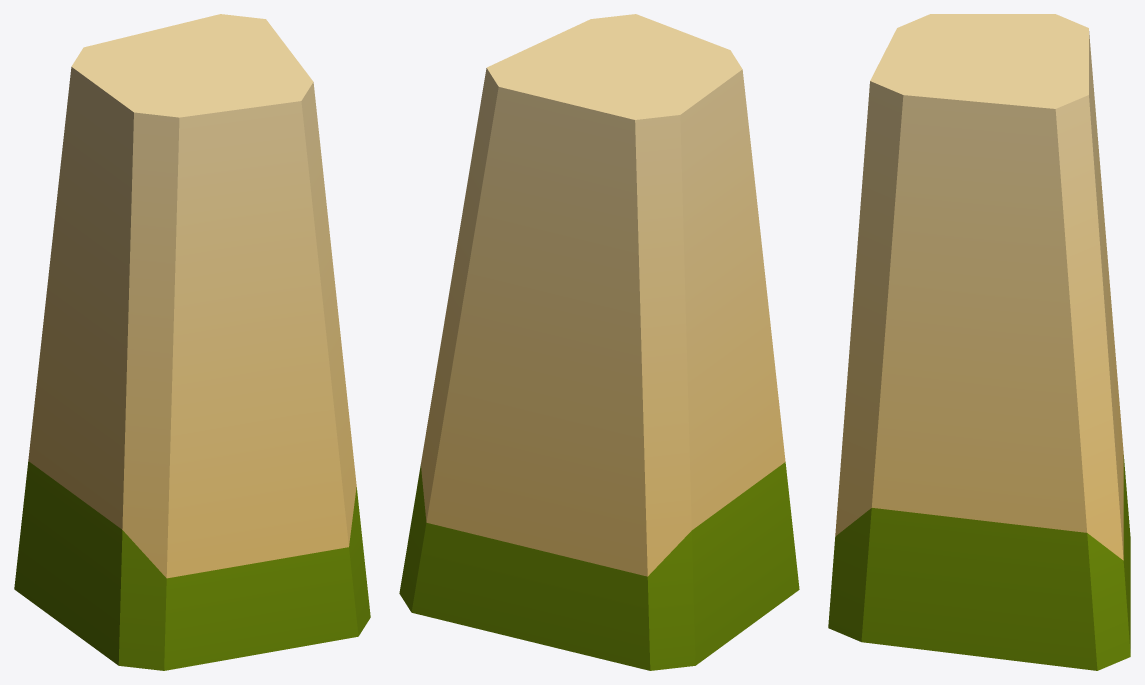
File: Rock_03.fbx
3 renders of one model, left to right at view 1: azimuth 30°, elevation 25°; view 2: azimuth 150°, elevation 25°; view 3: azimuth 270°, elevation 25°, orthographic.
Visible parts, largest first — view 1: Rock_03; view 2: Rock_03; view 3: Rock_03.
Part boxes in pixels (x1,y1,x2,y2): Rock_03: (14,14,370,670); Rock_03: (399,14,799,670); Rock_03: (828,14,1130,670).
Size of the model in its own units: 358 by 609 by 315.
